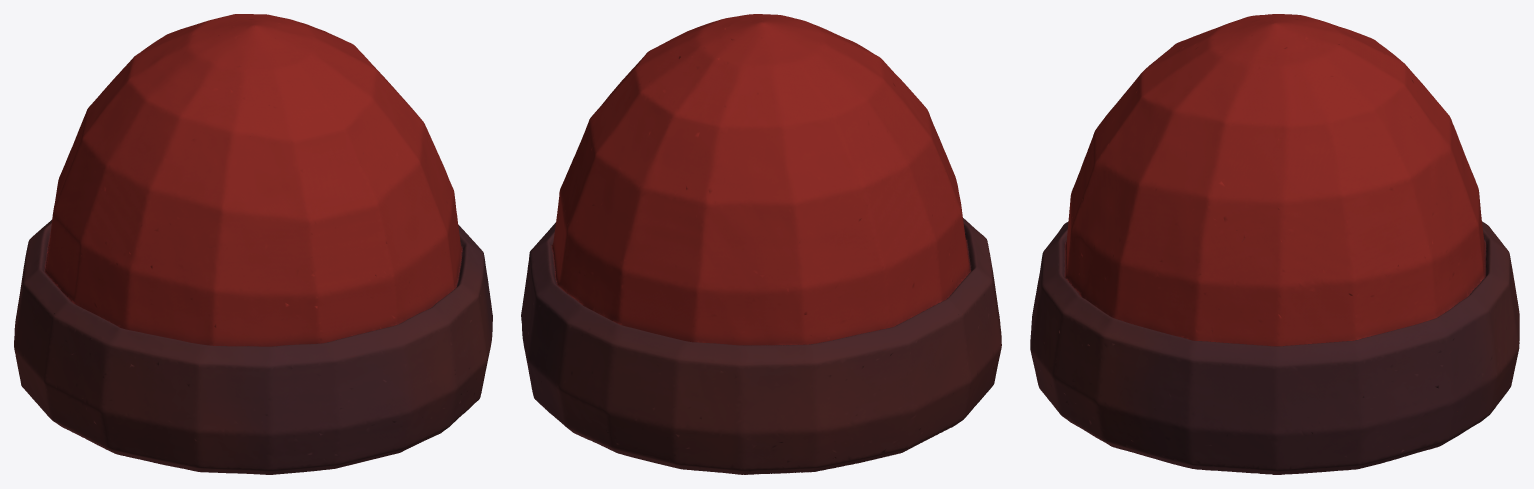
Rendered from beanie.glb.
The picture shows the model from 3 angles, left to right: view 1: azimuth 30°, elevation 25°; view 2: azimuth 150°, elevation 25°; view 3: azimuth 270°, elevation 25°; orthographic projection.
Visible parts, largest first — view 1: world; view 2: world; view 3: world.
Part boxes in pixels (<box>): world: <box>14,14,492,474</box>; world: <box>521,14,1001,474</box>; world: <box>1030,14,1519,474</box>.
Bounding box in the file's own units: 0.9921 × 0.8048 × 1.
Materials: 1 (1 with a texture image).
